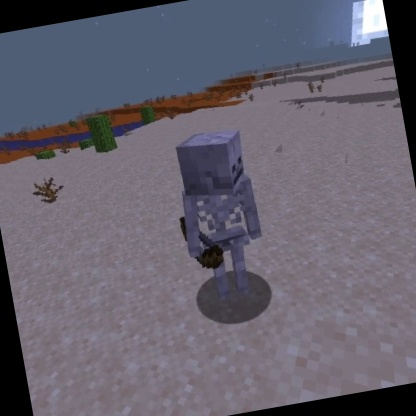skeleton: (160, 120, 279, 309)
